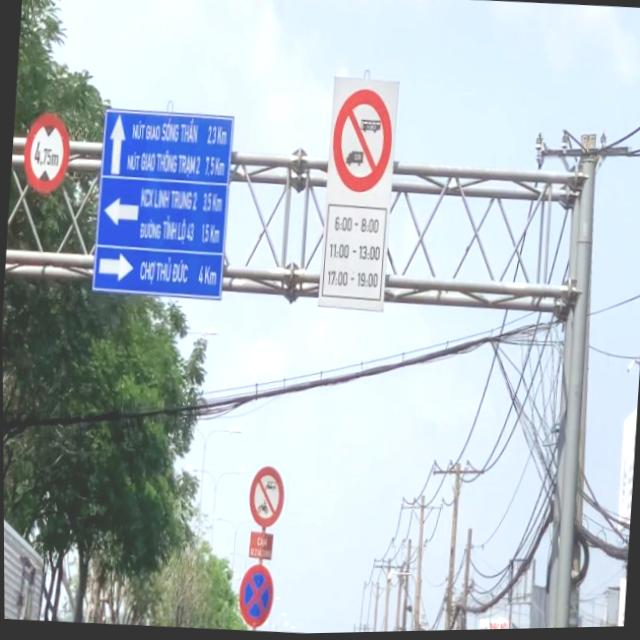Cam dung xe va do xe: (235, 563, 274, 630)
Han che chieu cao: (20, 111, 72, 194)
